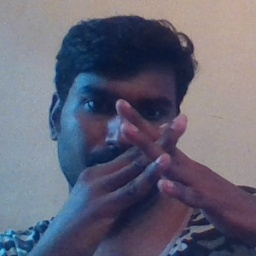W: (86, 86, 202, 218)
